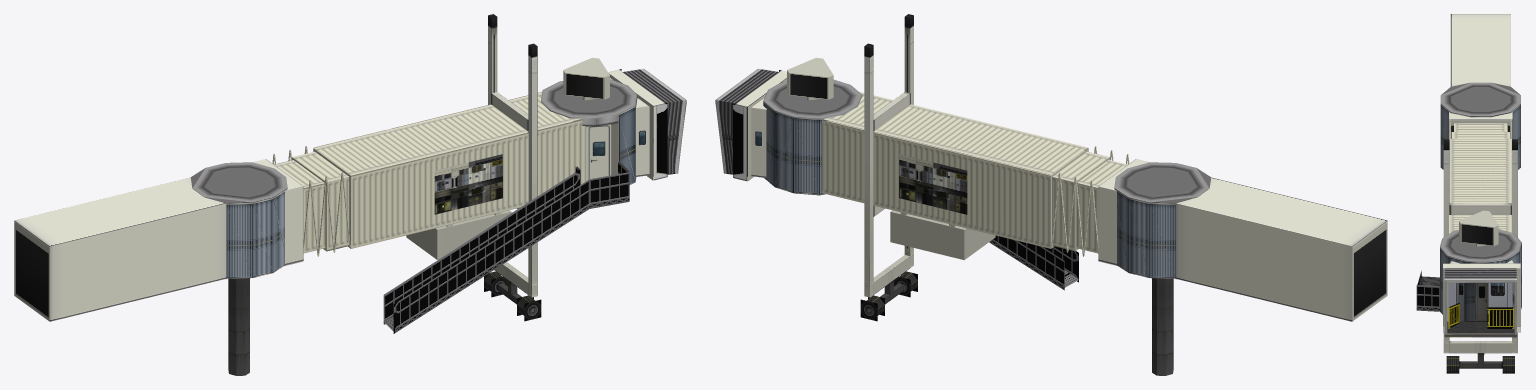
File: jetway.glb
3 views of the same model, side by side, from view 1: azimuth 30°, elevation 25°; view 2: azimuth 150°, elevation 25°; view 3: azimuth 270°, elevation 25° (orthographic). The views are drawn at different scales.
Parts seen in each view (by area): view 1: Rotunda1, Tunnel4, Rotunda2, Support, AirlineSign, Entrance, Tunnel3, Hood, Tunnel2, Tunnel1, GateSign, Scissors (+1 smaller); view 2: Rotunda1, Tunnel4, Rotunda2, Support, Entrance, AirlineSign, Tunnel3, Tunnel2, Hood, Tunnel1, GateSign, Scissors (+1 smaller); view 3: Rotunda1, Tunnel4, Entrance, Support, Rotunda2, Hood, GateSign, SupportGirder, Tunnel1, Tunnel2, Tunnel3.
Part boxes in pixels (x1,y1,x2,y2): Rotunda1: [14, 162, 287, 375]; Tunnel4: [313, 92, 585, 259]; Rotunda2: [383, 79, 637, 333]; Support: [484, 14, 541, 321]; AirlineSign: [434, 154, 502, 214]; Entrance: [608, 69, 667, 180]; Tunnel3: [292, 121, 573, 251]; Hood: [609, 68, 686, 176]; Tunnel2: [274, 160, 325, 253]; Tunnel1: [253, 159, 303, 266]; GateSign: [563, 57, 609, 100]; Scissors: [272, 146, 350, 256]; Rotunda1: [1114, 162, 1387, 375]; Tunnel4: [822, 91, 1088, 260]; Rotunda2: [763, 79, 1078, 290]; Support: [860, 14, 917, 321]; Entrance: [733, 70, 786, 181]; AirlineSign: [899, 154, 967, 214]; Tunnel3: [827, 121, 1109, 251]; Tunnel2: [1076, 160, 1127, 253]; Hood: [715, 68, 786, 176]; Tunnel1: [1098, 159, 1148, 266]; GateSign: [787, 57, 833, 100]; Scissors: [1051, 146, 1129, 256]; Rotunda1: [1440, 14, 1520, 169]; Tunnel4: [1449, 139, 1512, 233]; Entrance: [1443, 260, 1520, 332]; Support: [1443, 139, 1517, 373]; Rotunda2: [1416, 229, 1521, 314]; Hood: [1444, 268, 1516, 337]; GateSign: [1459, 210, 1498, 246]; SupportGirder: [1449, 203, 1511, 214]; Tunnel1: [1449, 112, 1512, 138]; Tunnel2: [1454, 123, 1507, 131]; Tunnel3: [1451, 132, 1509, 138].
Bounding box in the file's own units: 22.25 × 9.2 × 3.8.
2 materials, 2 textured.
